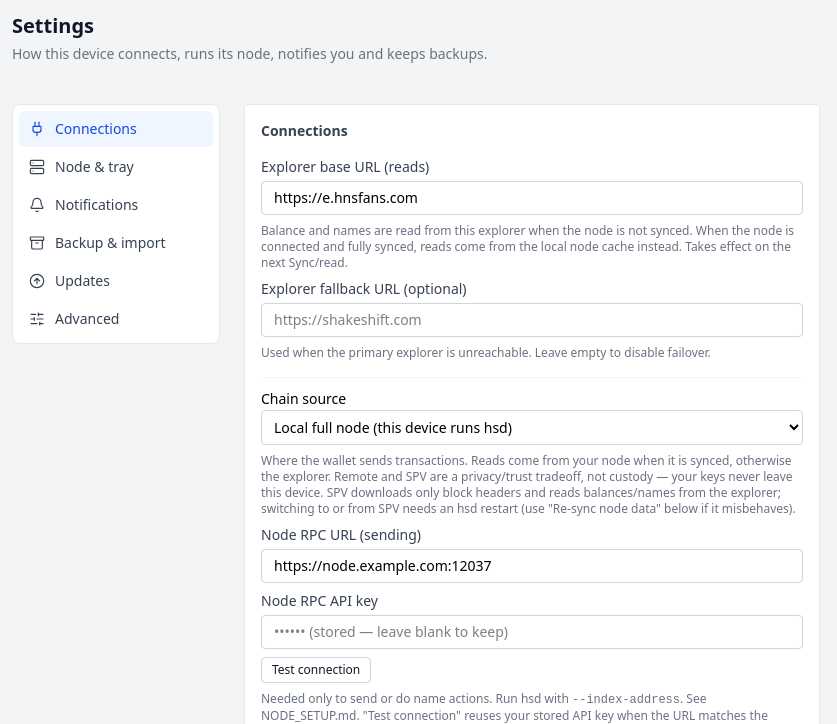
Test: Settings — Test connection › probes the saved URL with no key when the key field is blank
Click the button with test id "test-connection-button" at point(316, 670), box [261,657,371,683]
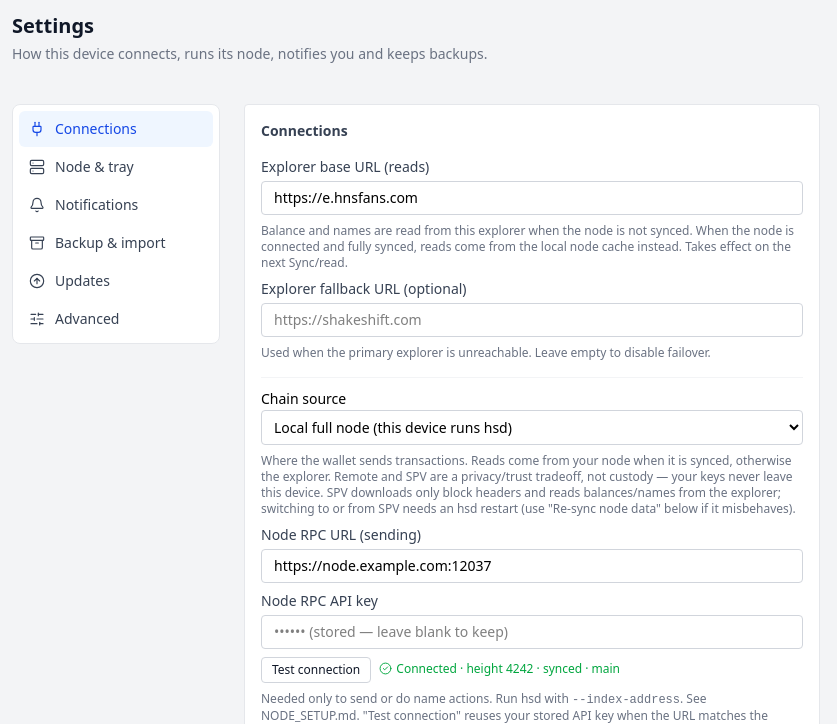
Check: the element with test id "connection-success" shows "height 4242", box [379,661,620,679]
